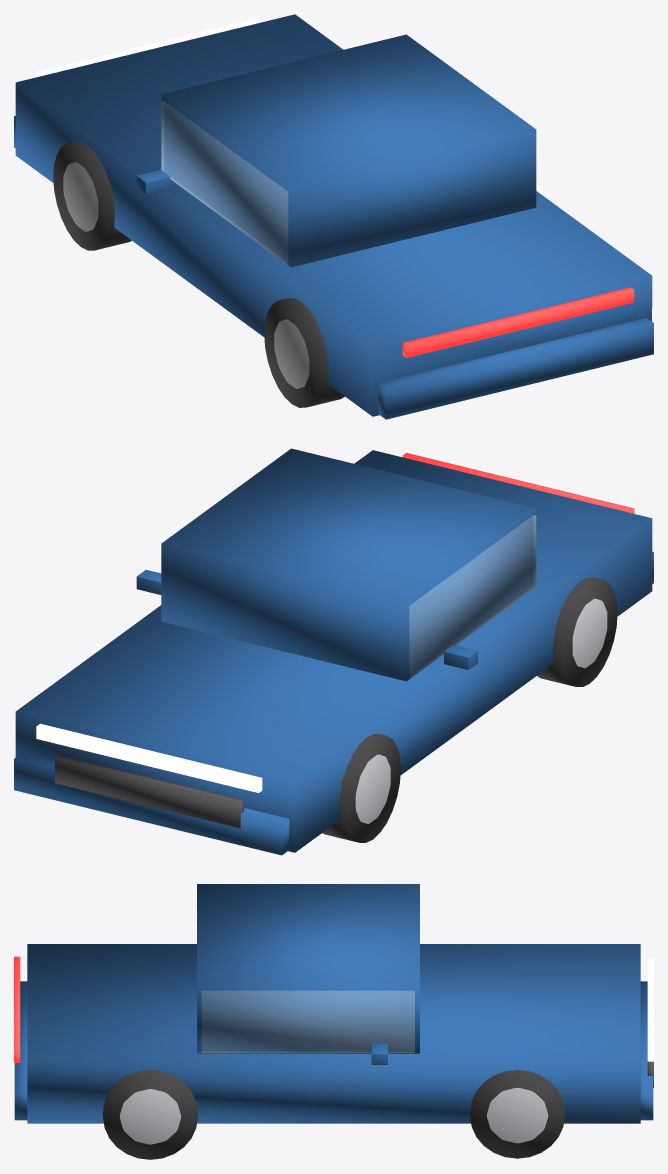
Rendered from vehicle.glb.
3 renders of one model, top to bottom at view 1: azimuth 30°, elevation 25°; view 2: azimuth 150°, elevation 25°; view 3: azimuth 270°, elevation 25°, orthographic. The views are drawn at different scales.
Parts seen in each view (by area): view 1: BODY_Main, BODY_Roof, BODY_Bumpers_Rear, GLASS_Greenhouse, WHEEL_RR_Tire, LIGHT_Taillights, WHEEL_FR_Tire, WHEEL_FR_Alloy, WHEEL_RR_Alloy, LIGHT_Headlights, BODY_Mirror_R; view 2: BODY_Main, BODY_Roof, GLASS_Greenhouse, BODY_Bumpers_Front, BODY_Grille, WHEEL_RR_Tire, LIGHT_Headlights, WHEEL_FR_Tire, WHEEL_RR_Alloy, WHEEL_FR_Alloy, LIGHT_Taillights, BODY_Mirror_R; view 3: BODY_Main, BODY_Roof, GLASS_Greenhouse, WHEEL_RL_Tire, WHEEL_FL_Tire, WHEEL_RL_Alloy, WHEEL_FL_Alloy, BODY_Bumpers_Rear, BODY_Bumpers_Front, LIGHT_Taillights, LIGHT_Headlights.
Boxes of the visible parts, left/top/right/bottom form: BODY_Main: left=15, top=14, right=652, bottom=416; BODY_Roof: left=161, top=34, right=536, bottom=267; BODY_Bumpers_Rear: left=378, top=317, right=653, bottom=419; GLASS_Greenhouse: left=161, top=101, right=287, bottom=263; WHEEL_RR_Tire: left=264, top=298, right=344, bottom=407; LIGHT_Taillights: left=402, top=287, right=634, bottom=357; WHEEL_FR_Tire: left=53, top=141, right=131, bottom=250; WHEEL_FR_Alloy: left=63, top=162, right=98, bottom=231; WHEEL_RR_Alloy: left=274, top=319, right=309, bottom=388; LIGHT_Headlights: left=36, top=17, right=262, bottom=77; BODY_Mirror_R: left=136, top=170, right=170, bottom=194; BODY_Main: left=15, top=450, right=652, bottom=852; BODY_Roof: left=161, top=448, right=536, bottom=681; GLASS_Greenhouse: left=409, top=515, right=536, bottom=677; BODY_Bumpers_Front: left=14, top=753, right=289, bottom=855; BODY_Grille: left=55, top=755, right=243, bottom=828; WHEEL_RR_Tire: left=537, top=577, right=617, bottom=686; LIGHT_Headlights: left=36, top=723, right=262, bottom=792; WHEEL_FR_Tire: left=322, top=734, right=400, bottom=842; WHEEL_RR_Alloy: left=572, top=598, right=607, bottom=668; WHEEL_FR_Alloy: left=355, top=754, right=390, bottom=823; LIGHT_Taillights: left=402, top=453, right=634, bottom=513; BODY_Mirror_R: left=444, top=644, right=477, bottom=669; BODY_Main: left=27, top=944, right=640, bottom=1123; BODY_Roof: left=197, top=884, right=419, bottom=1053; GLASS_Greenhouse: left=201, top=991, right=414, bottom=1052; WHEEL_RL_Tire: left=103, top=1070, right=197, bottom=1159; WHEEL_FL_Tire: left=470, top=1070, right=564, bottom=1158; WHEEL_RL_Alloy: left=119, top=1089, right=180, bottom=1144; WHEEL_FL_Alloy: left=487, top=1087, right=548, bottom=1143; BODY_Bumpers_Rear: left=14, top=981, right=27, bottom=1120; BODY_Bumpers_Front: left=640, top=981, right=653, bottom=1120; LIGHT_Taillights: left=14, top=956, right=20, bottom=1062; LIGHT_Headlights: left=647, top=957, right=653, bottom=1061.
Bounding box in the file's own units: 2.42 × 1.31 × 4.71.
